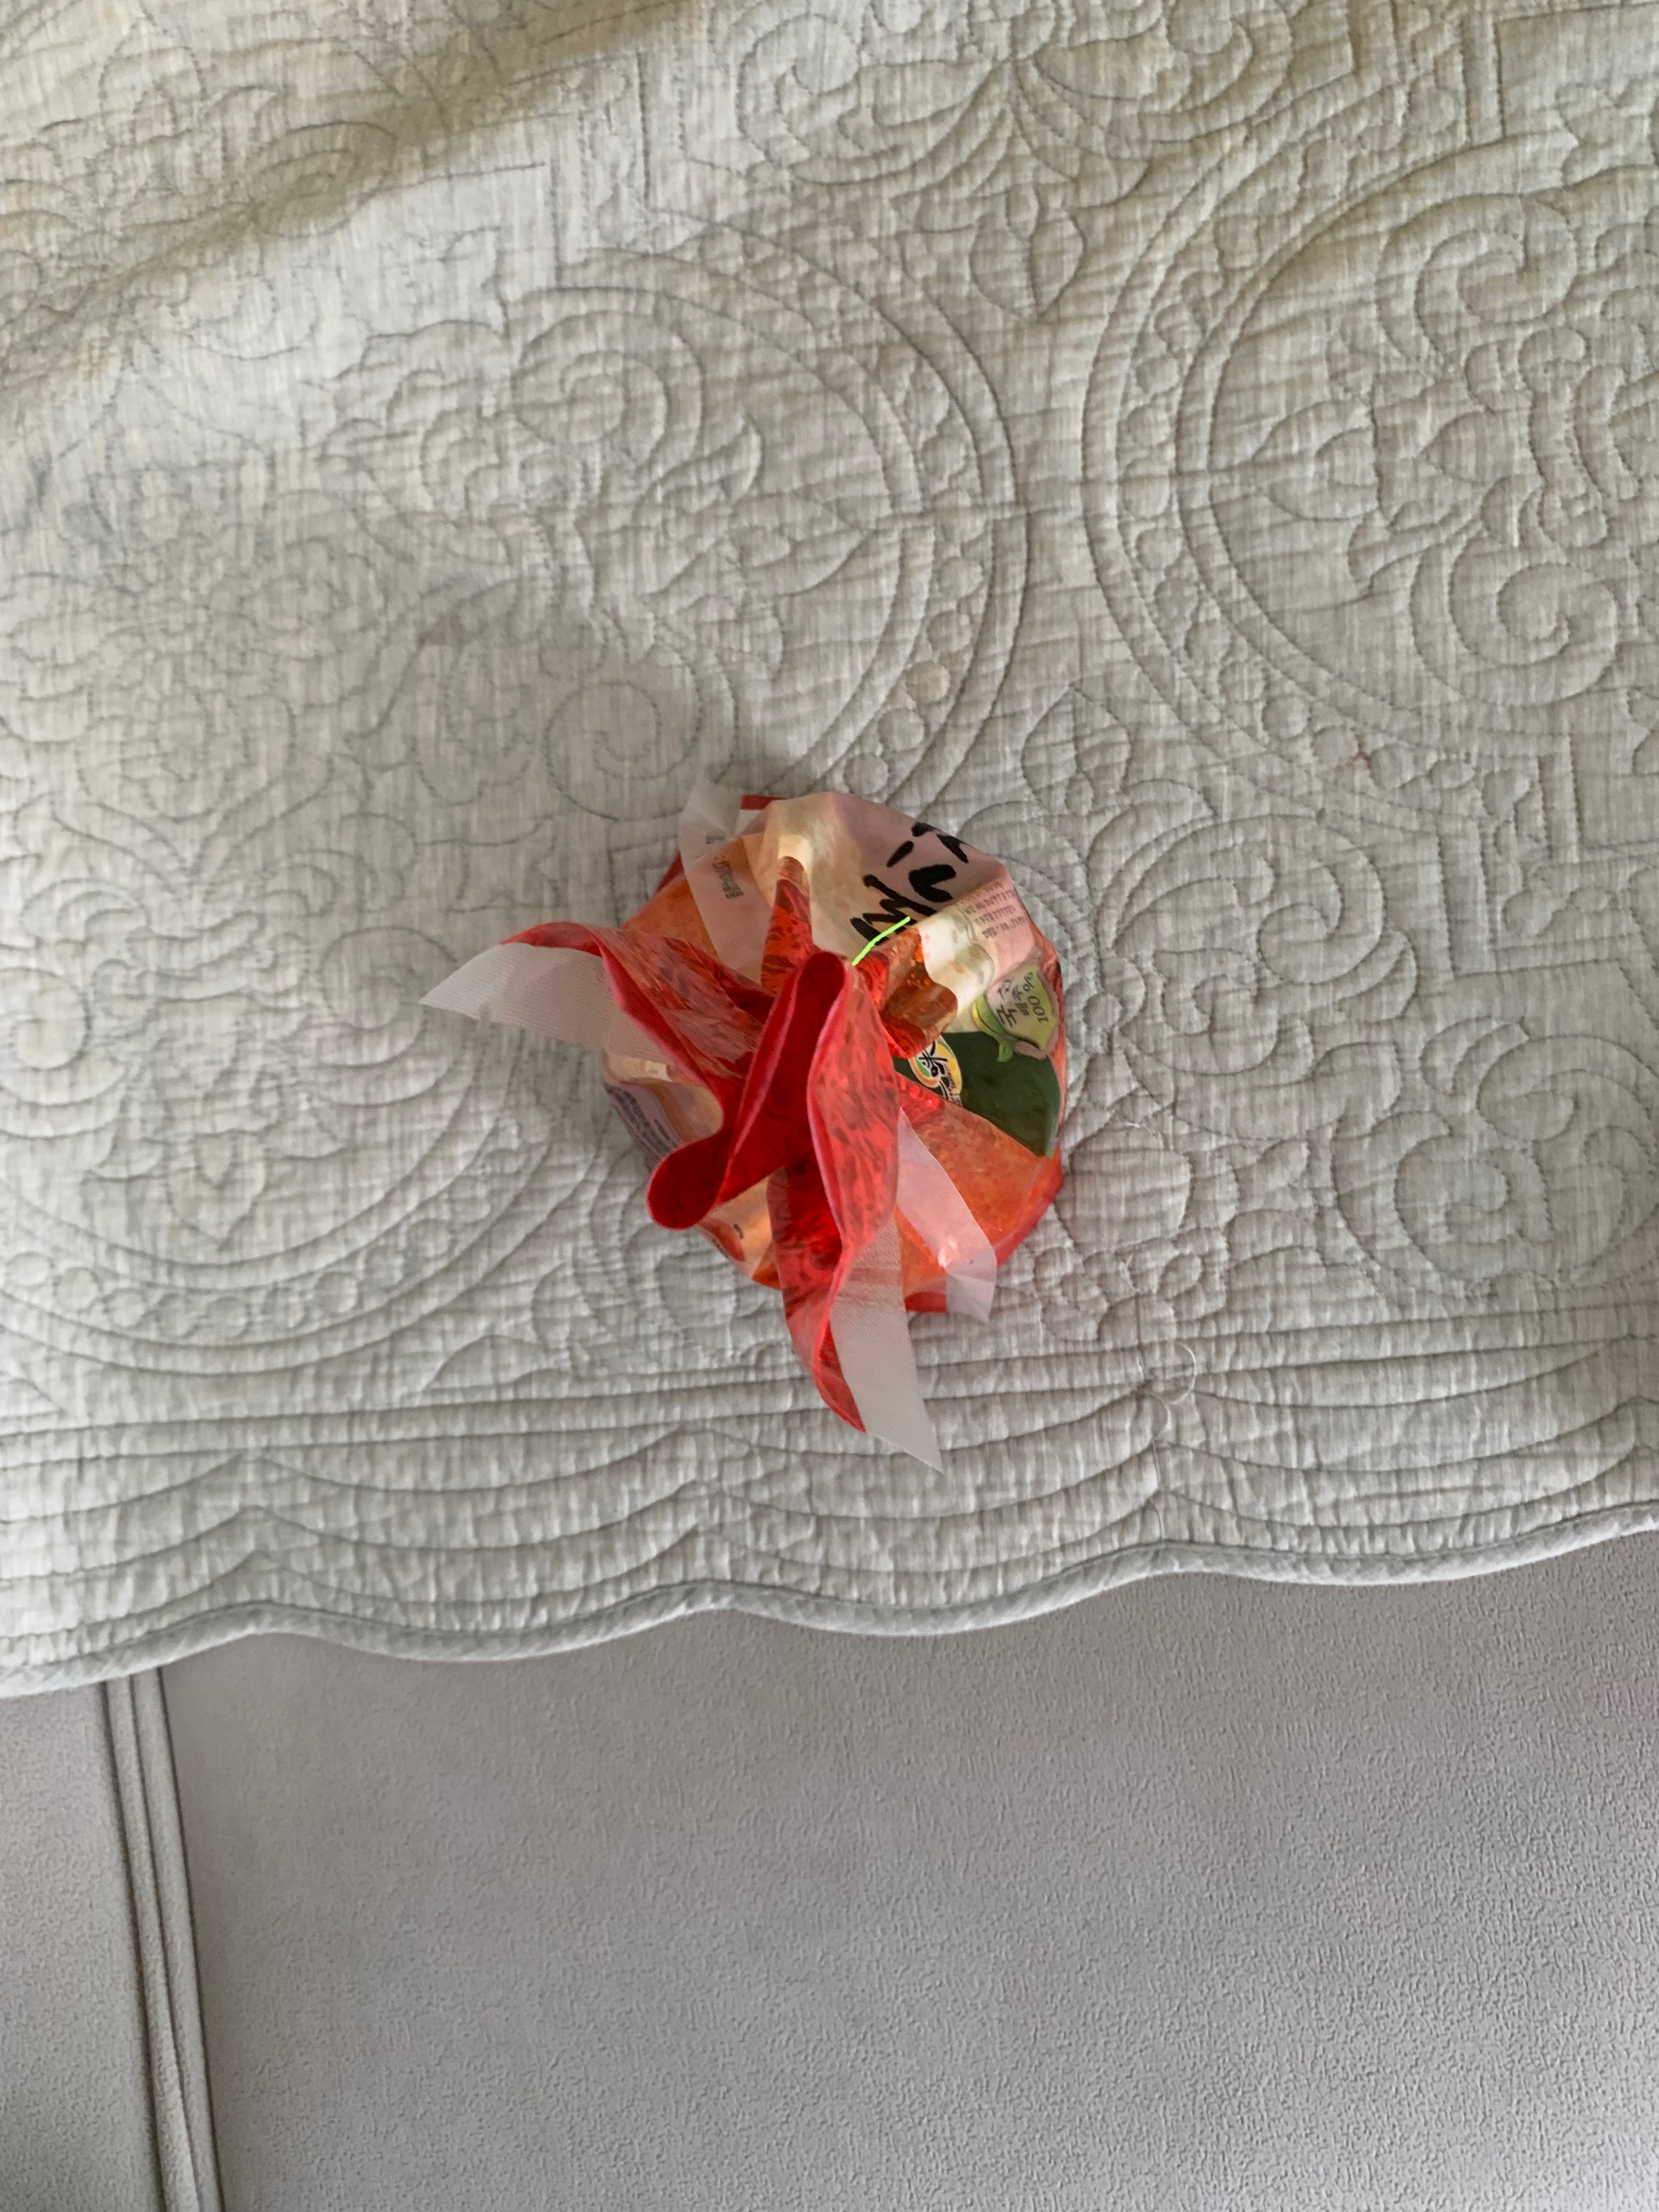kimchi: (615, 787, 1082, 1303)
